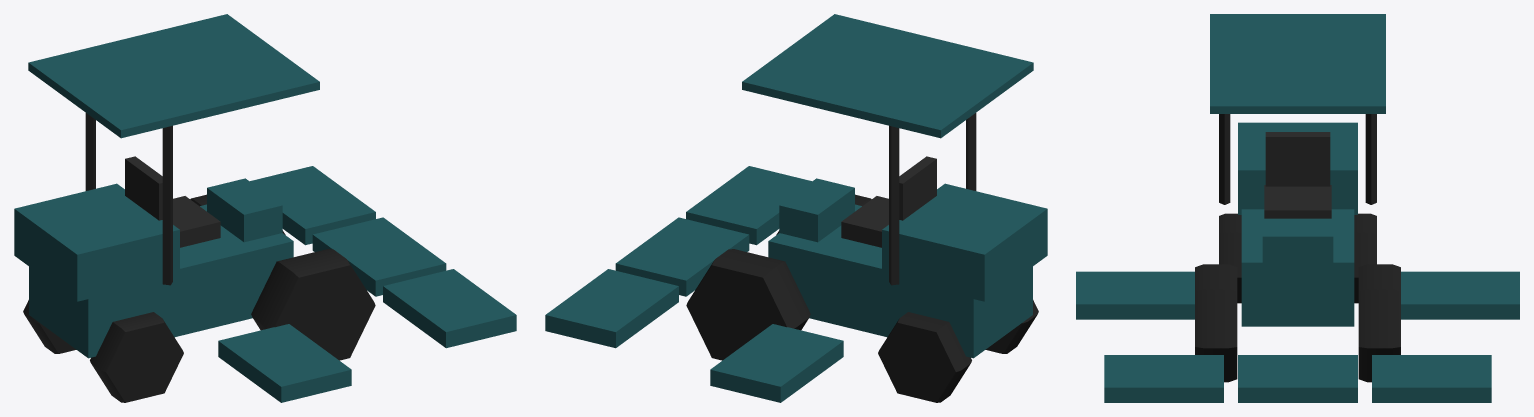
The model's file is SM_Prop_farm_mower_0_LOD2.glb.
3 renders of one model, left to right at view 1: azimuth 30°, elevation 25°; view 2: azimuth 150°, elevation 25°; view 3: azimuth 270°, elevation 25°, orthographic. The views are drawn at different scales.
Parts seen in each view (by area): view 1: SM_Prop_farm_mower_0_LOD2; view 2: SM_Prop_farm_mower_0_LOD2; view 3: SM_Prop_farm_mower_0_LOD2.
Part boxes in pixels (left/top/right/bottom): SM_Prop_farm_mower_0_LOD2: left=14, top=14, right=516, bottom=402; SM_Prop_farm_mower_0_LOD2: left=545, top=14, right=1047, bottom=402; SM_Prop_farm_mower_0_LOD2: left=1076, top=14, right=1519, bottom=402.
Size of the model in its own units: 2.87 by 2.09 by 3.15.
